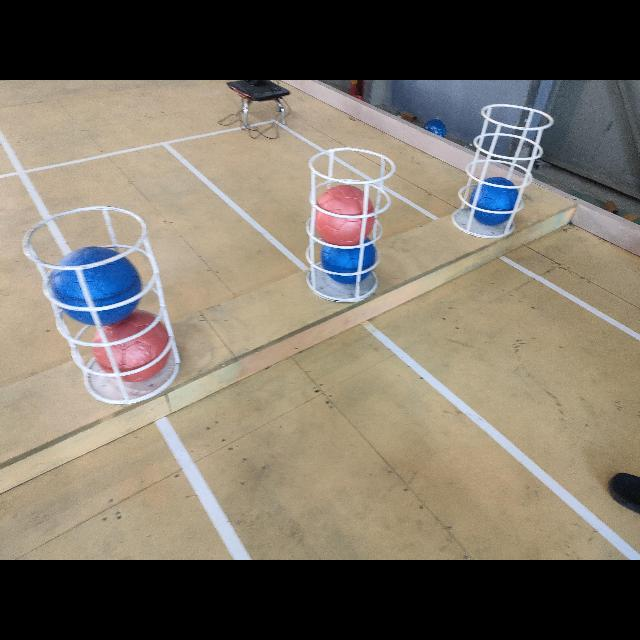B: (48, 246, 142, 326), (322, 233, 376, 284), (470, 177, 520, 225)
R: (91, 311, 172, 383), (312, 186, 376, 247)
